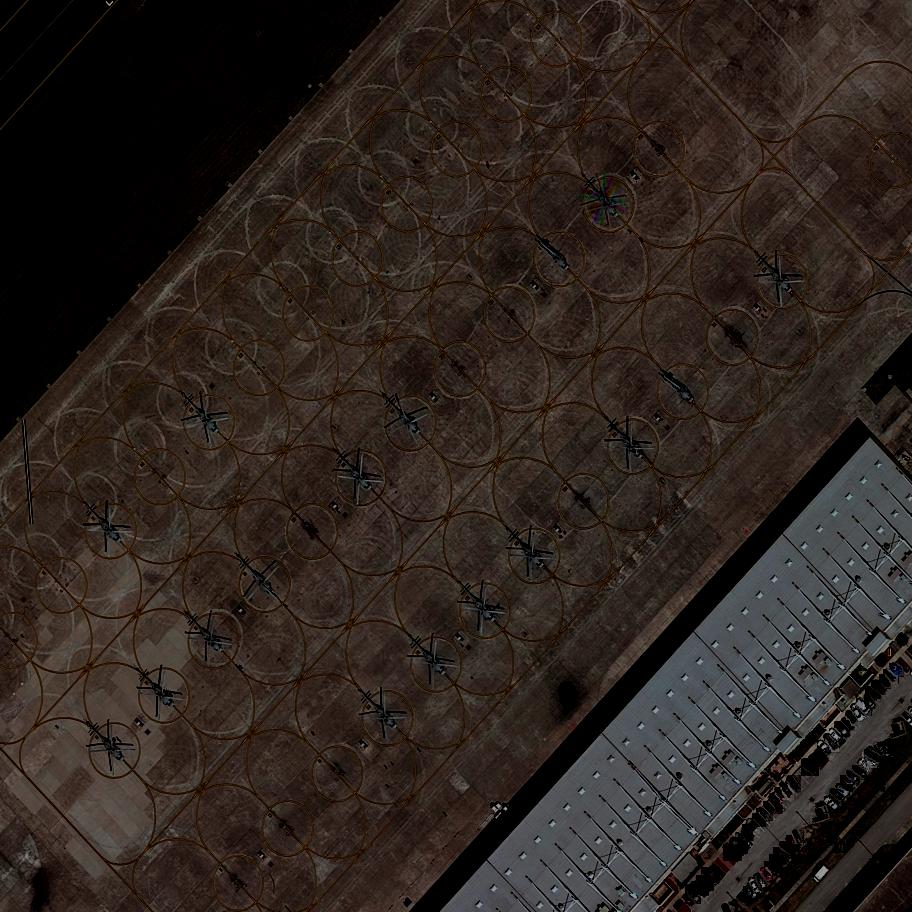small-vehicle: (801, 759, 821, 777), (856, 698, 875, 716), (685, 884, 702, 904), (723, 844, 743, 861), (701, 868, 722, 884), (729, 838, 749, 854), (769, 793, 784, 814), (864, 748, 885, 763), (852, 703, 866, 725), (824, 796, 841, 813), (817, 741, 834, 758), (735, 832, 753, 848), (785, 775, 801, 793), (834, 721, 850, 739), (769, 854, 784, 873), (696, 876, 715, 891), (825, 734, 840, 753), (773, 847, 789, 864), (861, 753, 877, 770), (883, 668, 900, 684), (877, 742, 892, 760), (691, 882, 710, 896), (742, 887, 759, 902), (773, 787, 788, 804), (786, 836, 801, 853), (828, 788, 845, 803), (781, 784, 796, 801), (754, 873, 768, 891), (747, 878, 761, 896), (778, 842, 796, 856), (836, 784, 851, 800), (746, 819, 761, 835), (764, 861, 779, 877), (852, 766, 869, 780), (760, 867, 774, 883), (845, 770, 861, 784), (846, 710, 860, 726), (871, 680, 887, 694), (858, 759, 871, 776), (841, 776, 854, 793), (865, 687, 882, 700), (756, 809, 774, 821), (742, 824, 754, 842), (763, 801, 777, 816), (890, 663, 905, 677), (752, 813, 766, 827), (829, 729, 843, 743), (864, 695, 877, 710), (792, 829, 803, 846), (841, 720, 856, 732), (880, 674, 892, 689), (886, 739, 898, 753)
